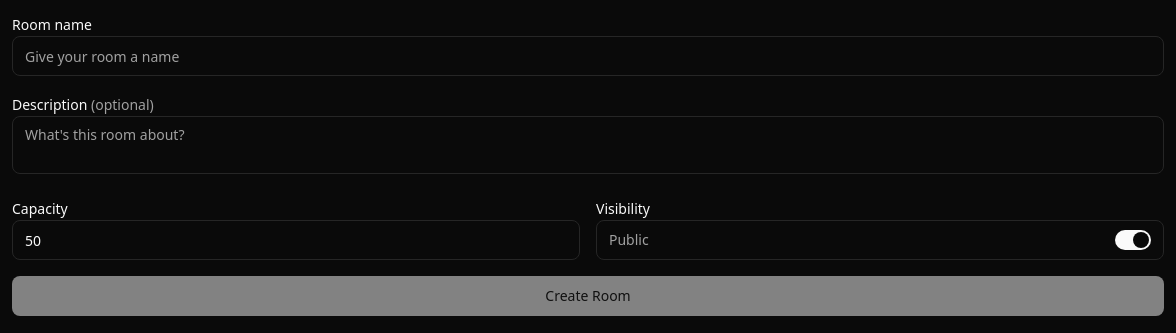
Test: CreateRoomForm › toggles public/private visibility
The width and height of the screenshot is (1176, 333).
Expected: the text "Public" is shown, x1=609 y1=230 x2=649 y2=250
Click the switch named "Public room" at (629, 240), box x1=596 y1=220 x2=1164 y2=260
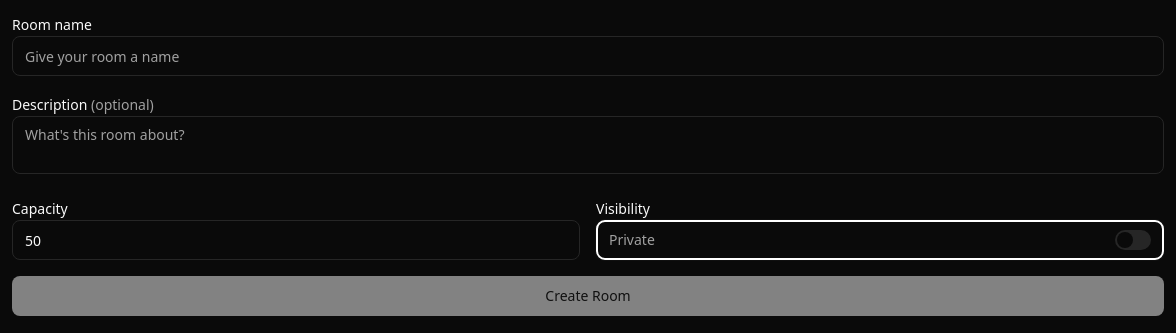
Expected: the text "Private" is shown, x1=609 y1=230 x2=655 y2=250
